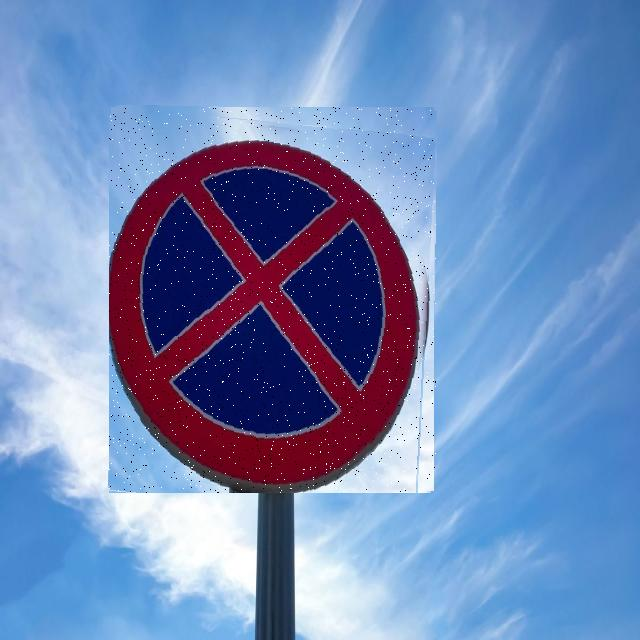no stopping: (109, 106, 436, 493)
